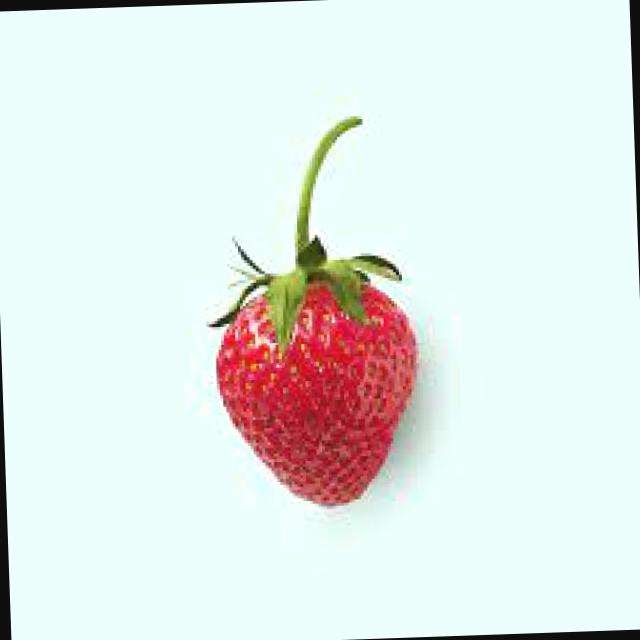strawberry: (178, 138, 418, 536)
